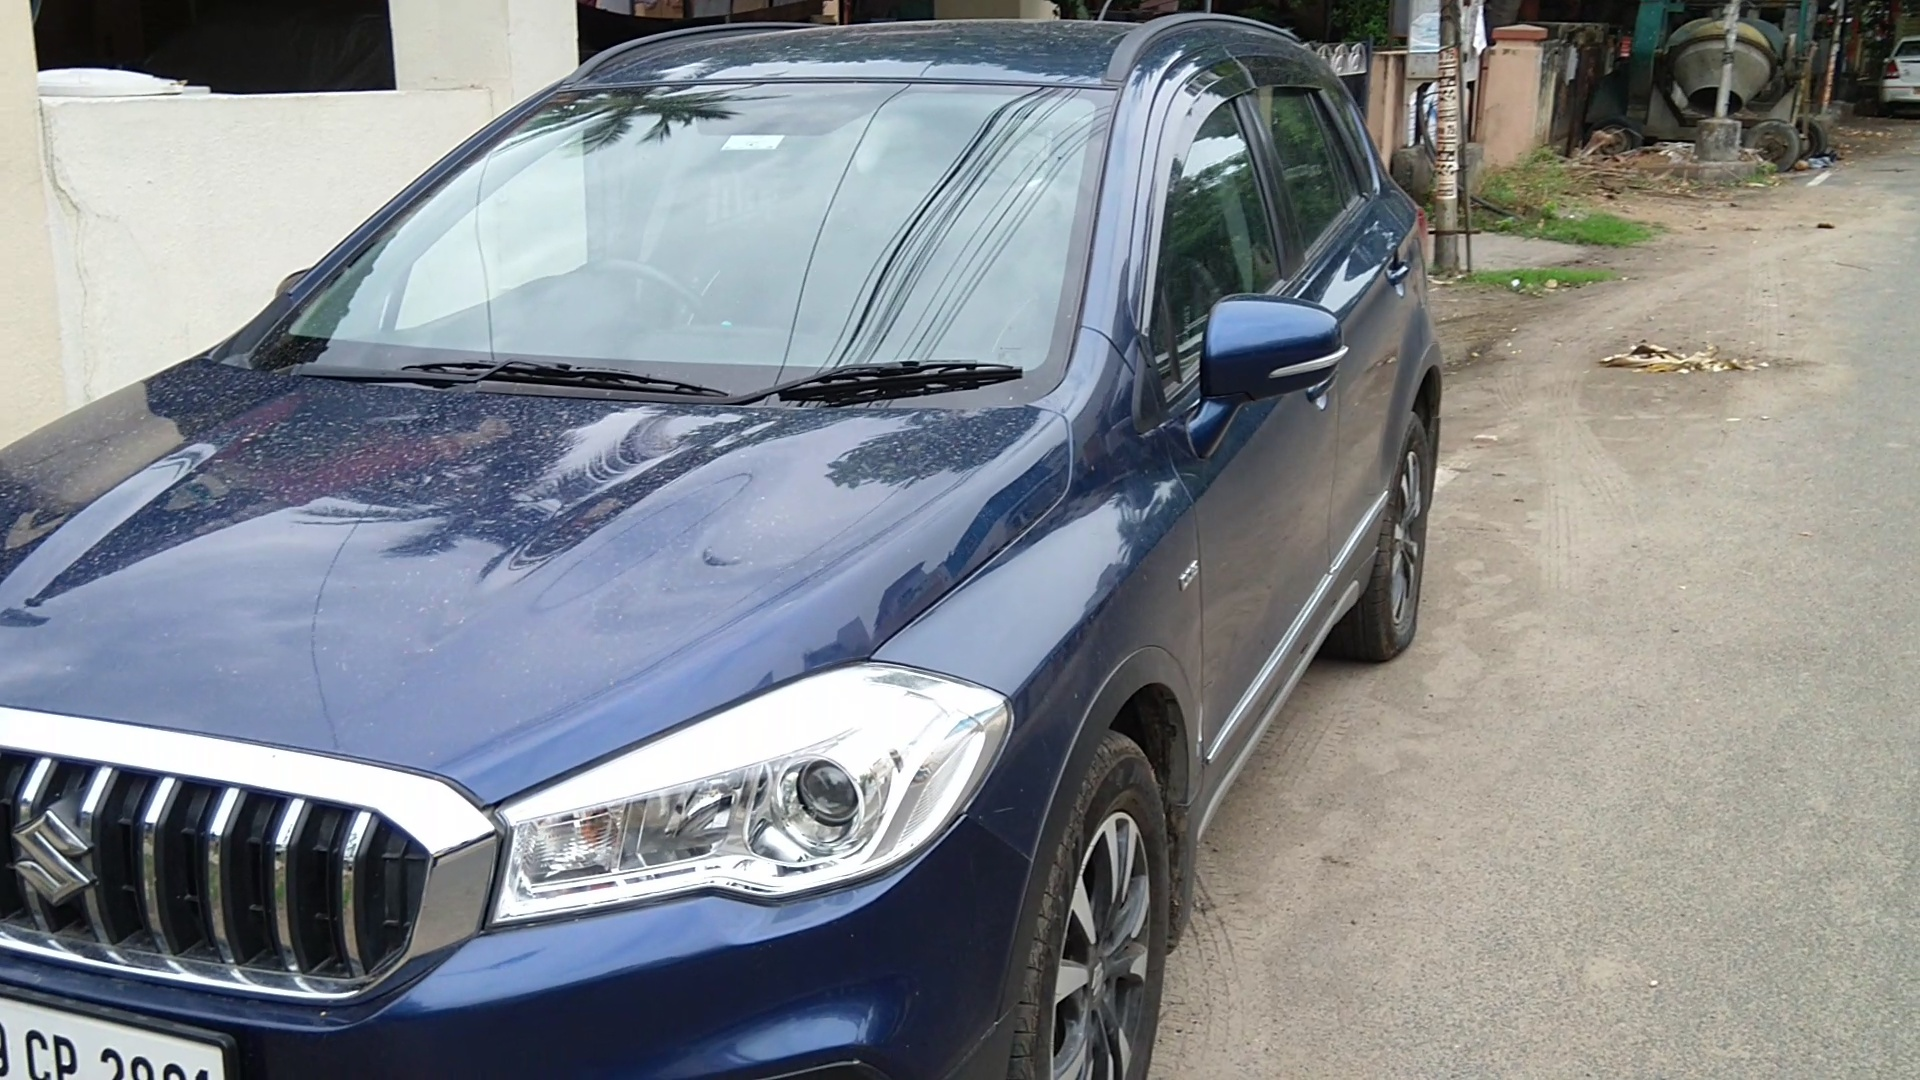alloy_wheel: (1014, 746, 1167, 1080), (1373, 425, 1432, 634)
headlamp: (485, 646, 1029, 952)
ovr_mirror: (1193, 290, 1358, 411)
